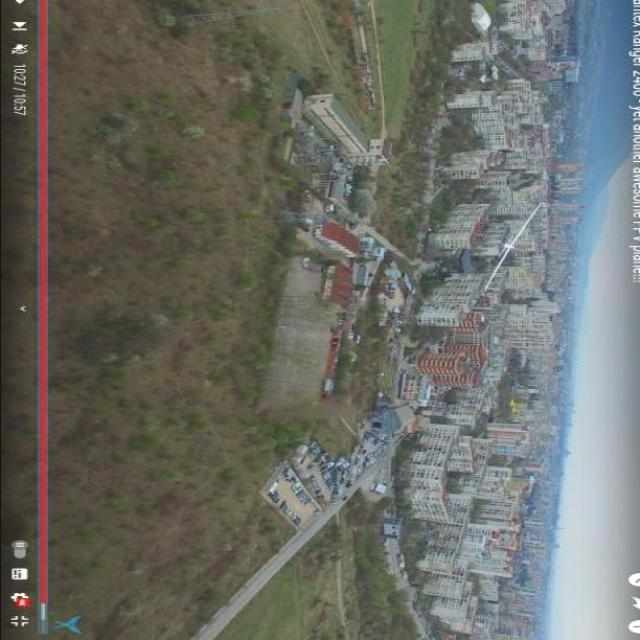plane: (486, 204, 542, 287)
